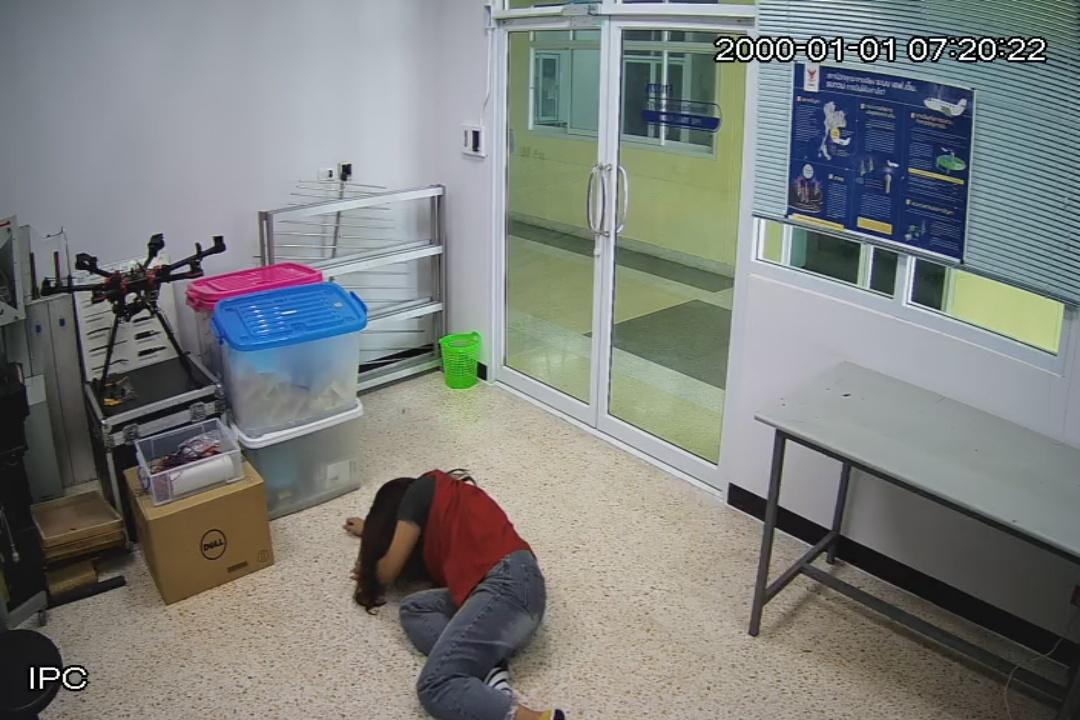fall: (347, 473, 573, 720)
